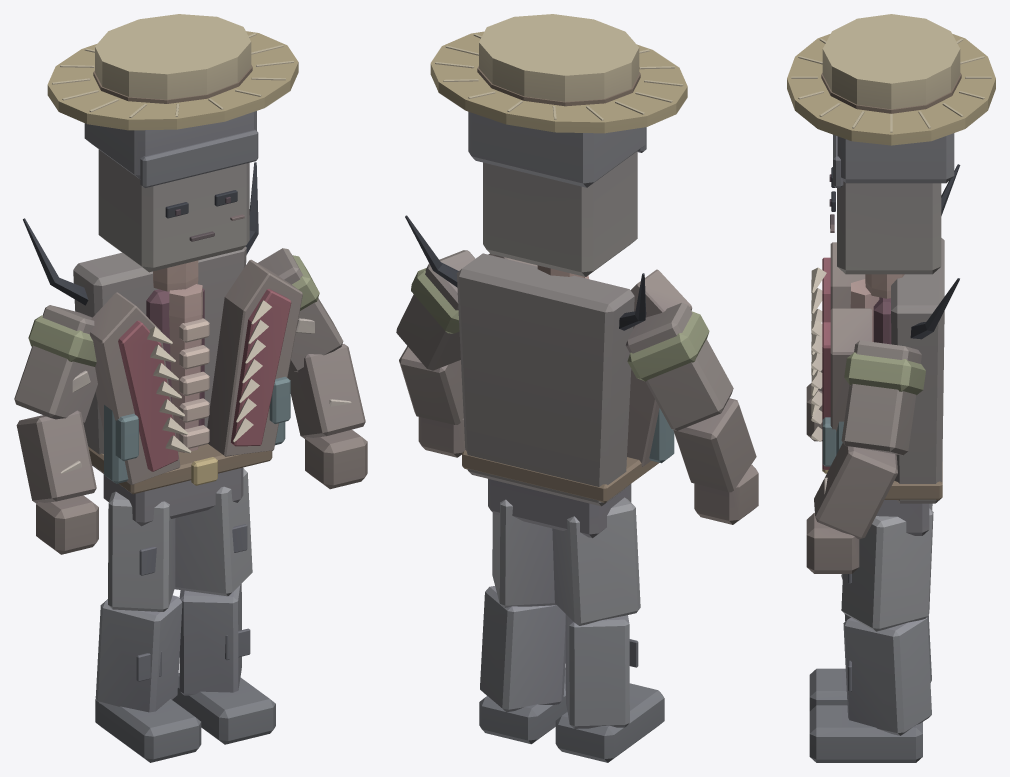
The model's file is AssimilatedAdventurerFarmer.glb.
3 renders of one model, left to right at view 1: azimuth 30°, elevation 25°; view 2: azimuth 150°, elevation 25°; view 3: azimuth 270°, elevation 25°, orthographic. The views are drawn at different scales.
Parts seen in each view (by area): view 1: Body, Head, LegR, LegL, ArmR, ArmL, TendrilR, TendrilL; view 2: Body, Head, LegR, LegL, ArmR, ArmL, TendrilL, TendrilR; view 3: Head, LegL, Body, ArmL, LegR, TendrilL, ArmR.
Boxes of the visible parts, x1,y1,x2,y2 form: Body: [73, 246, 302, 526]; Head: [47, 14, 298, 291]; LegR: [95, 491, 201, 762]; LegL: [172, 468, 275, 744]; ArmR: [14, 305, 98, 554]; ArmL: [257, 248, 367, 489]; TendrilR: [23, 218, 88, 305]; TendrilL: [245, 162, 258, 254]; Body: [456, 253, 692, 538]; Head: [430, 14, 687, 277]; LegR: [552, 497, 664, 762]; LegL: [479, 499, 567, 744]; ArmR: [625, 302, 758, 524]; ArmL: [396, 250, 475, 457]; TendrilL: [405, 215, 458, 287]; TendrilR: [619, 273, 646, 330]; Head: [787, 14, 995, 298]; LegL: [809, 508, 933, 762]; Body: [811, 238, 944, 535]; ArmL: [806, 340, 925, 573]; LegR: [809, 503, 932, 710]; TendrilL: [910, 278, 959, 339]; ArmR: [806, 370, 822, 441].
Bounding box in the file's own units: 3.24 × 6.6 × 1.82.
